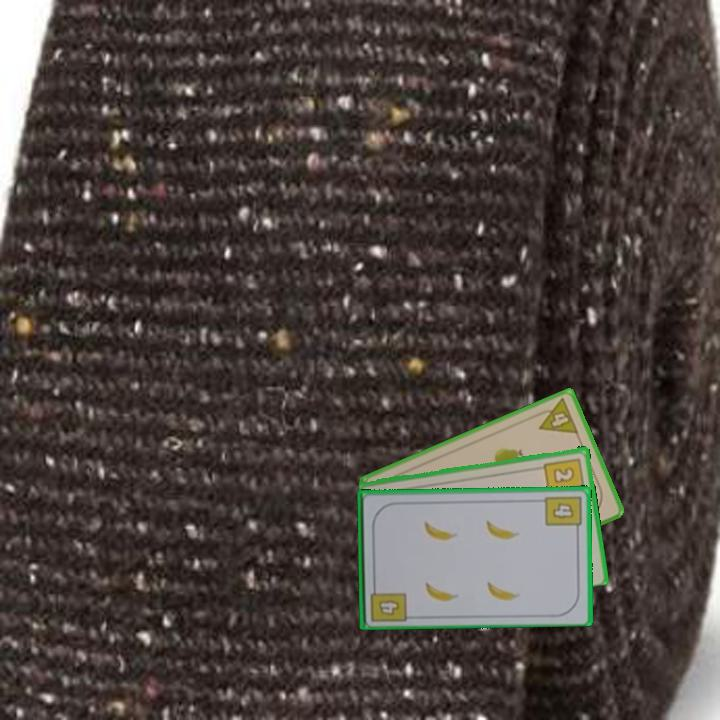2b: (541, 454, 587, 496)
4b: (366, 580, 409, 624), (542, 492, 584, 535)
4p: (530, 395, 581, 437)
